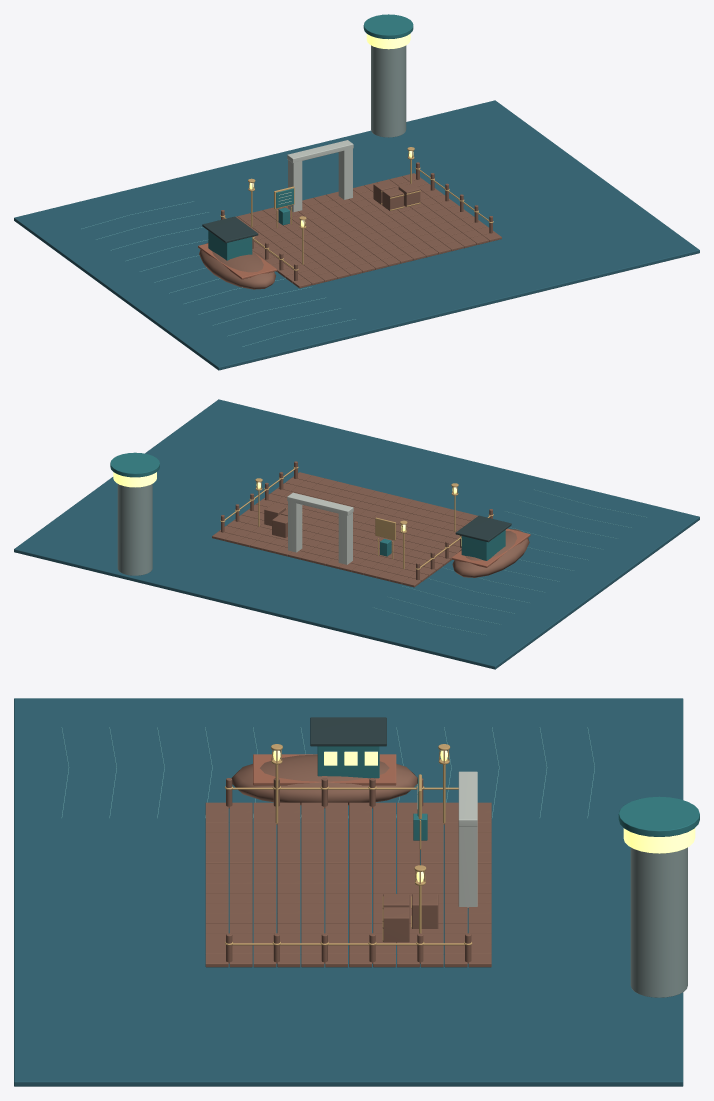
The model's file is harbor.glb.
3 views of the same model, one above another, from view 1: azimuth 30°, elevation 25°; view 2: azimuth 150°, elevation 25°; view 3: azimuth 270°, elevation 25° (orthographic). The views are drawn at different scales.
Parts seen in each view (by area): view 1: Static_0_Night sea, Static_1_Walnut, Static_9_Salt limestone, Static_5_Enamel teal.001, Static_8_Carved pale stone, Static_10_Sea glass, Static_2_Aged brass.001, Static_6_Ink iron; view 2: Static_0_Night sea, Static_1_Walnut, Static_9_Salt limestone, Static_8_Carved pale stone, Static_5_Enamel teal.001, Static_2_Aged brass.001, Static_10_Sea glass, Static_6_Ink iron, Static_3_Lantern warm glass, Static_4_Oxide leather.001; view 3: Static_0_Night sea, Static_1_Walnut, Static_9_Salt limestone, Static_5_Enamel teal.001, Static_2_Aged brass.001, Static_8_Carved pale stone, Static_6_Ink iron, Static_3_Lantern warm glass, Static_4_Oxide leather.001, Static_10_Sea glass.
Boxes of the visible parts, x1=… form: Static_0_Night sea: x1=14, y1=100, x2=699, y2=370; Static_1_Walnut: x1=199, y1=162, x2=501, y2=289; Static_9_Salt limestone: x1=371, y1=45, x2=406, y2=137; Static_5_Enamel teal.001: x1=208, y1=14, x2=413, y2=260; Static_8_Carved pale stone: x1=287, y1=140, x2=353, y2=212; Static_10_Sea glass: x1=81, y1=201, x2=355, y2=346; Static_2_Aged brass.001: x1=220, y1=147, x2=493, y2=270; Static_6_Ink iron: x1=202, y1=216, x2=258, y2=243; Static_0_Night sea: x1=14, y1=399, x2=699, y2=669; Static_1_Walnut: x1=212, y1=461, x2=529, y2=587; Static_9_Salt limestone: x1=117, y1=484, x2=152, y2=575; Static_8_Carved pale stone: x1=287, y1=492, x2=353, y2=564; Static_5_Enamel teal.001: x1=110, y1=452, x2=505, y2=560; Static_2_Aged brass.001: x1=220, y1=467, x2=493, y2=569; Static_10_Sea glass: x1=372, y1=489, x2=647, y2=635; Static_6_Ink iron: x1=455, y1=515, x2=511, y2=542; Static_3_Lantern warm glass: x1=113, y1=472, x2=461, y2=545; Static_4_Oxide leather.001: x1=451, y1=528, x2=530, y2=567; Static_0_Night sea: x1=14, y1=698, x2=683, y2=1086; Static_1_Walnut: x1=205, y1=754, x2=491, y2=967; Static_9_Salt limestone: x1=630, y1=847, x2=687, y2=997; Static_5_Enamel teal.001: x1=317, y1=746, x2=699, y2=840; Static_2_Aged brass.001: x1=225, y1=744, x2=472, y2=945; Static_8_Carved pale stone: x1=458, y1=771, x2=477, y2=908; Static_6_Ink iron: x1=310, y1=717, x2=386, y2=746; Static_3_Lantern warm glass: x1=273, y1=750, x2=695, y2=882; Static_4_Oxide leather.001: x1=253, y1=754, x2=396, y2=785; Static_10_Sea glass: x1=61, y1=727, x2=594, y2=818.
Bounding box in the file's own units: 38 × 8.6 × 28.7.
